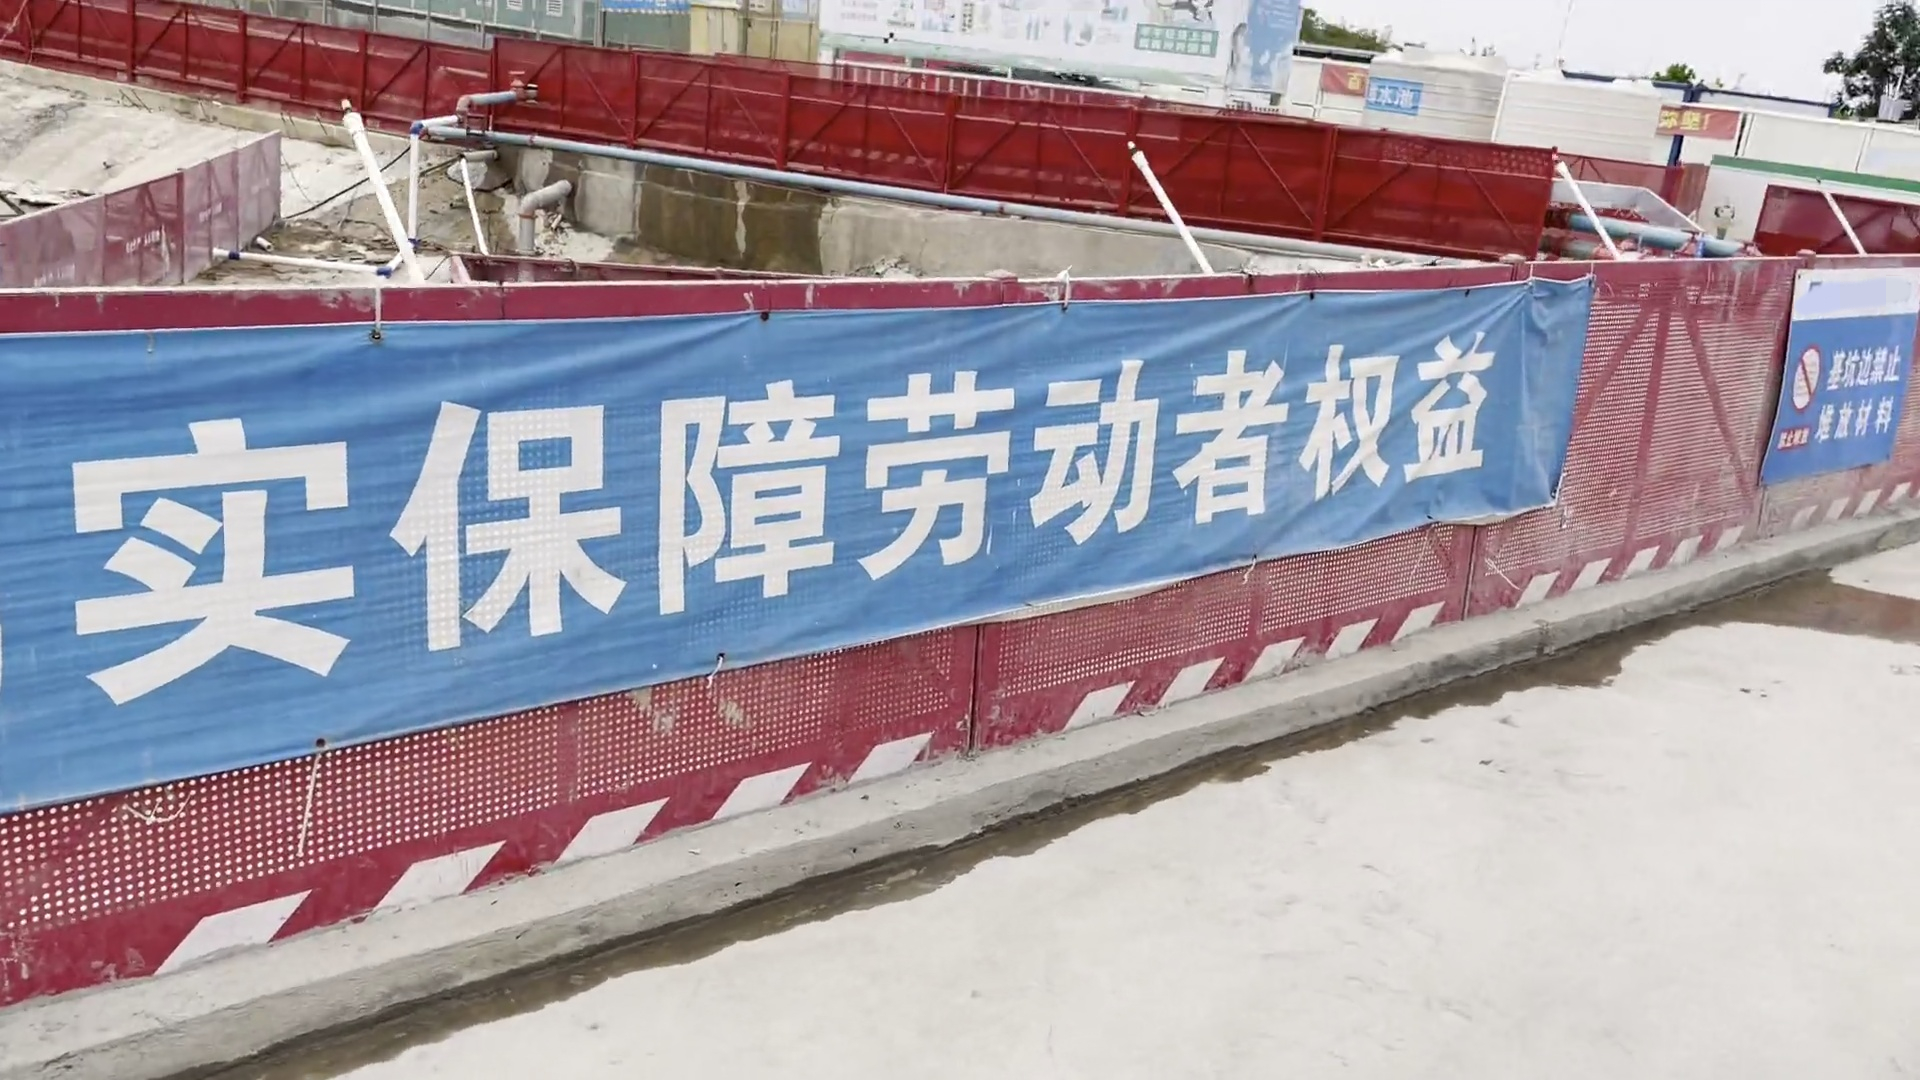fence: (26, 252, 1920, 865), (313, 79, 1567, 258)
slogan: (34, 332, 1518, 698), (1764, 265, 1917, 489), (1335, 67, 1429, 115), (1134, 24, 1225, 61), (1651, 109, 1727, 131)
